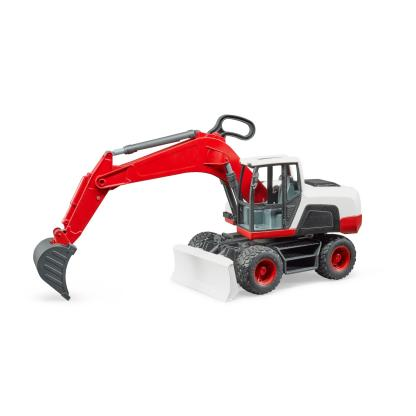excavator: (25, 102, 416, 337)
